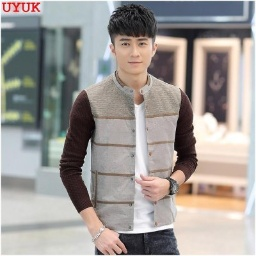face: (108, 4, 160, 74)
